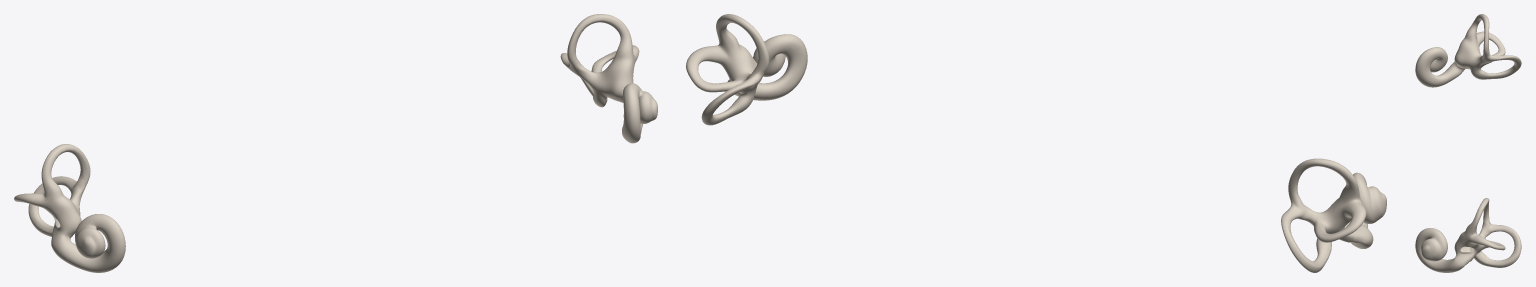
The model's file is non-commercial.glb.
3 views of the same model, side by side, from view 1: azimuth 30°, elevation 25°; view 2: azimuth 150°, elevation 25°; view 3: azimuth 270°, elevation 25° (orthographic). The views are drawn at different scales.
Parts seen in each view (by area): view 1: Vestibule.l, Vestibule.r, Cochlea.r, Cochlea.l; view 2: Vestibule.l, Vestibule.r, Cochlea.l, Cochlea.r; view 3: Vestibule.r, Vestibule.l, Cochlea.l, Cochlea.r.
Part boxes in pixels (x1,y1,x2,y2): Vestibule.l: (560, 14, 639, 107); Vestibule.r: (14, 144, 90, 238); Cochlea.r: (51, 214, 125, 272); Cochlea.l: (622, 83, 657, 143); Vestibule.l: (686, 14, 769, 125); Vestibule.r: (1281, 158, 1366, 272); Cochlea.l: (727, 34, 807, 100); Cochlea.r: (1351, 172, 1386, 248); Vestibule.r: (1454, 14, 1521, 79); Vestibule.l: (1454, 198, 1521, 267); Cochlea.l: (1415, 228, 1470, 272); Cochlea.r: (1415, 47, 1465, 87).
Bounding box in the file's own units: 0.0897 × 0.014 × 0.019.
